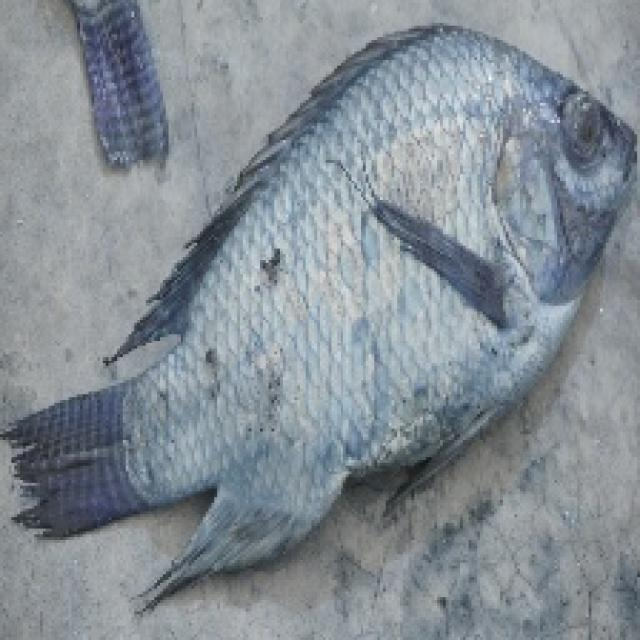Non-Fresh: (204, 20, 640, 457)
